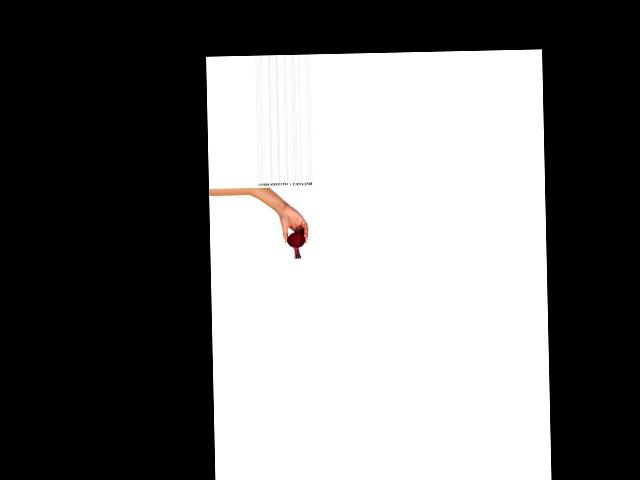beet: (287, 231, 306, 259)
